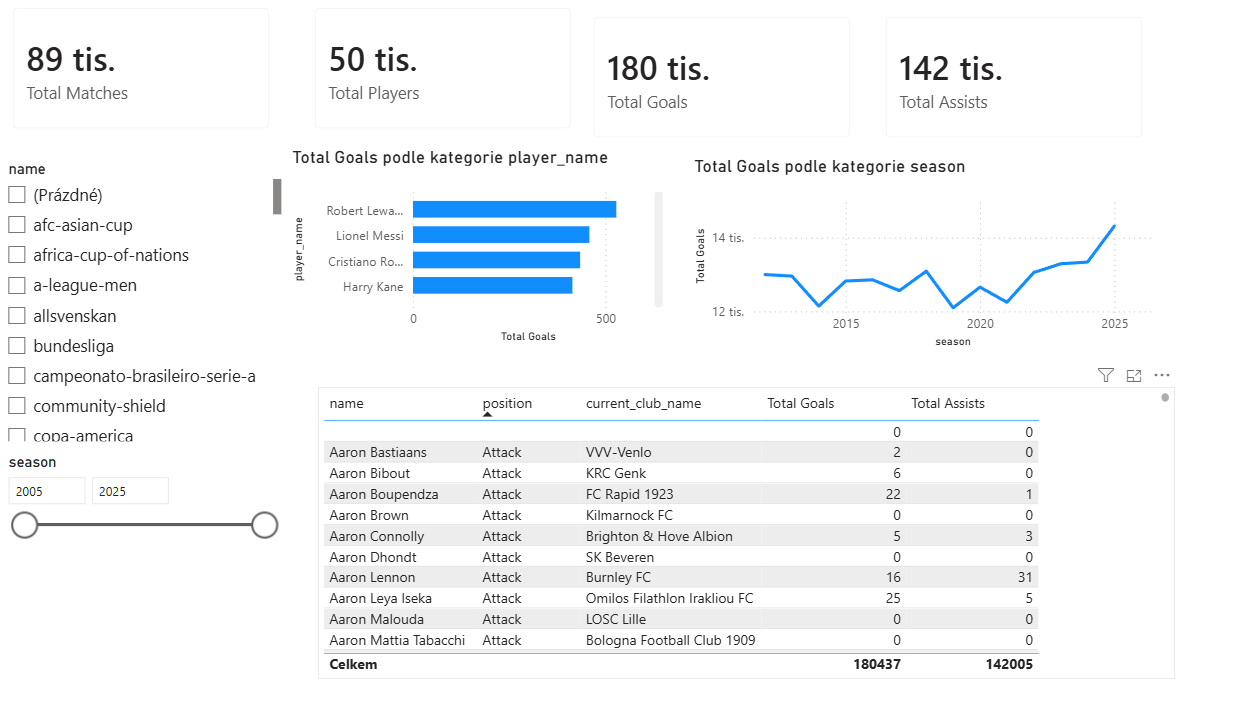

Layout of this report page (visuals, bound fields, positions):
{"tool":"powerbi","page":{"name":"Stránka 1","canvas":[1280,720],"ordinal":0},"visuals":[{"type":"slicer","fields":{"Values":["public competitions.name"]},"box":[0,158.5,280,280],"z":0},{"type":"slicer","fields":{"Values":["public games.season"]},"box":[0,439.6,280,280],"z":1},{"type":"cardVisual","fields":{"Data":["public appearances.Total Players"]},"box":[289.8,0,280,150],"z":2},{"type":"cardVisual","fields":{"Data":["public appearances.Total Matches"]},"box":[0,0,280,150],"z":3},{"type":"cardVisual","fields":{"Data":["public appearances.Total Goals"]},"box":[558.3,8.8,280,150],"z":4},{"type":"cardVisual","fields":{"Data":["public appearances.Total Assists"]},"box":[838.4,8.8,280,150],"z":5},{"type":"barChart","fields":{"Category":["public appearances.player_name"],"Y":["public appearances.Total Goals"]},"box":[280.4,149.8,365.9,193],"z":6},{"type":"lineChart","fields":{"Category":["public games.season"],"Y":["public appearances.Total Goals"]},"box":[666.4,158.4,452.3,189.2],"z":7},{"type":"tableEx","fields":{"Values":["public players.name","public players.position","public players.current_club_name","public appearances.Total Goals","public appearances.Total Assists"]},"box":[310.2,381.2,822.9,280.4],"z":8}]}

Visuals, with their boxes on the page's 1280x720 design canvas (x1, y1, x2, y2). These are canvas units, not pixel positions in the 1243x724 screenshot, which may show the page scaled, cropped or inside an application window:
slicer - public competitions.name: 0:158:280:438
slicer - public games.season: 0:440:280:720
cardVisual - public appearances.Total Players: 290:0:570:150
cardVisual - public appearances.Total Matches: 0:0:280:150
cardVisual - public appearances.Total Goals: 558:9:838:159
cardVisual - public appearances.Total Assists: 838:9:1118:159
barChart - public appearances.player_name x public appearances.Total Goals: 280:150:646:343
lineChart - public games.season x public appearances.Total Goals: 666:158:1119:348
tableEx - public players.name x public players.position: 310:381:1133:662
